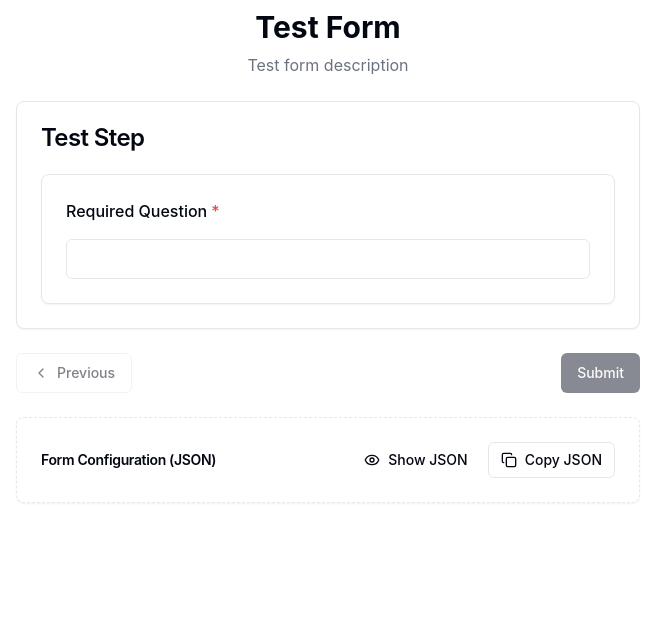
Scenario: FormPreview Integration Tests › Form Validation › should allow submission when all required fields are filled
In the field: (328, 259) [66,239,590,279], type "Required answer"
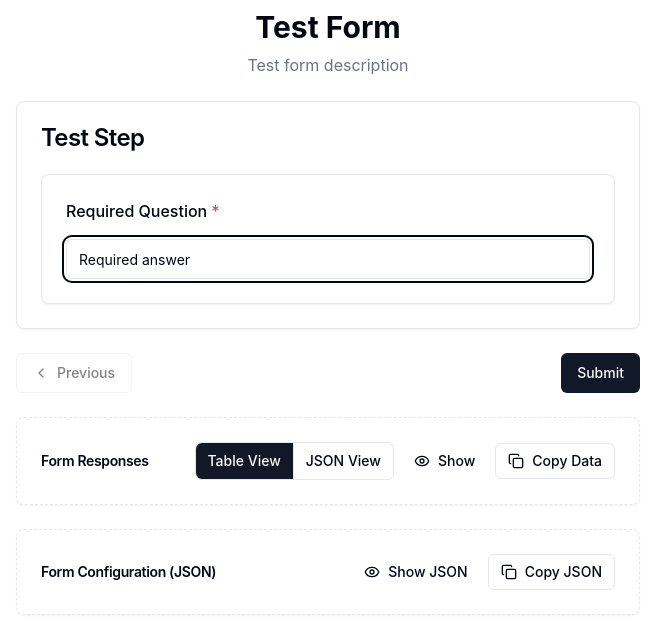
Expected: the button "Submit" is enabled, [561,353,640,393]
